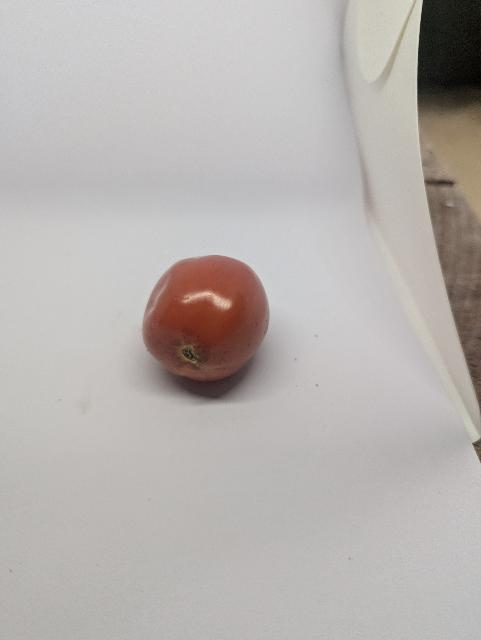red: (134, 249, 279, 400)
